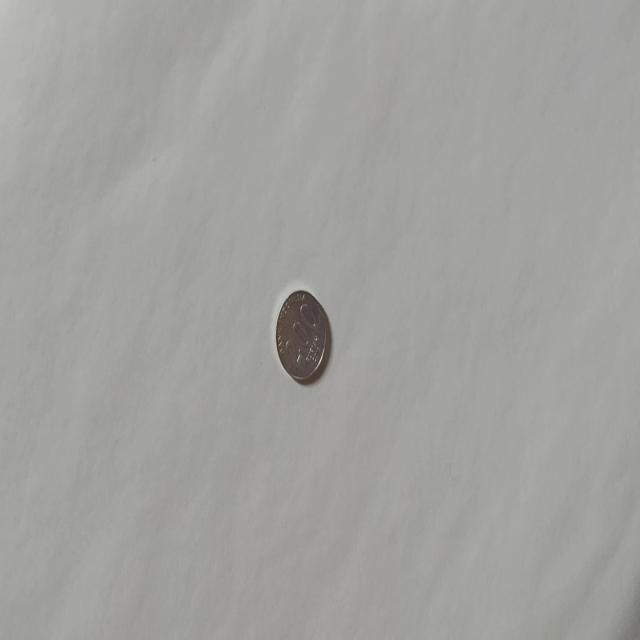dua ratus rupiah: (274, 287, 328, 383)
